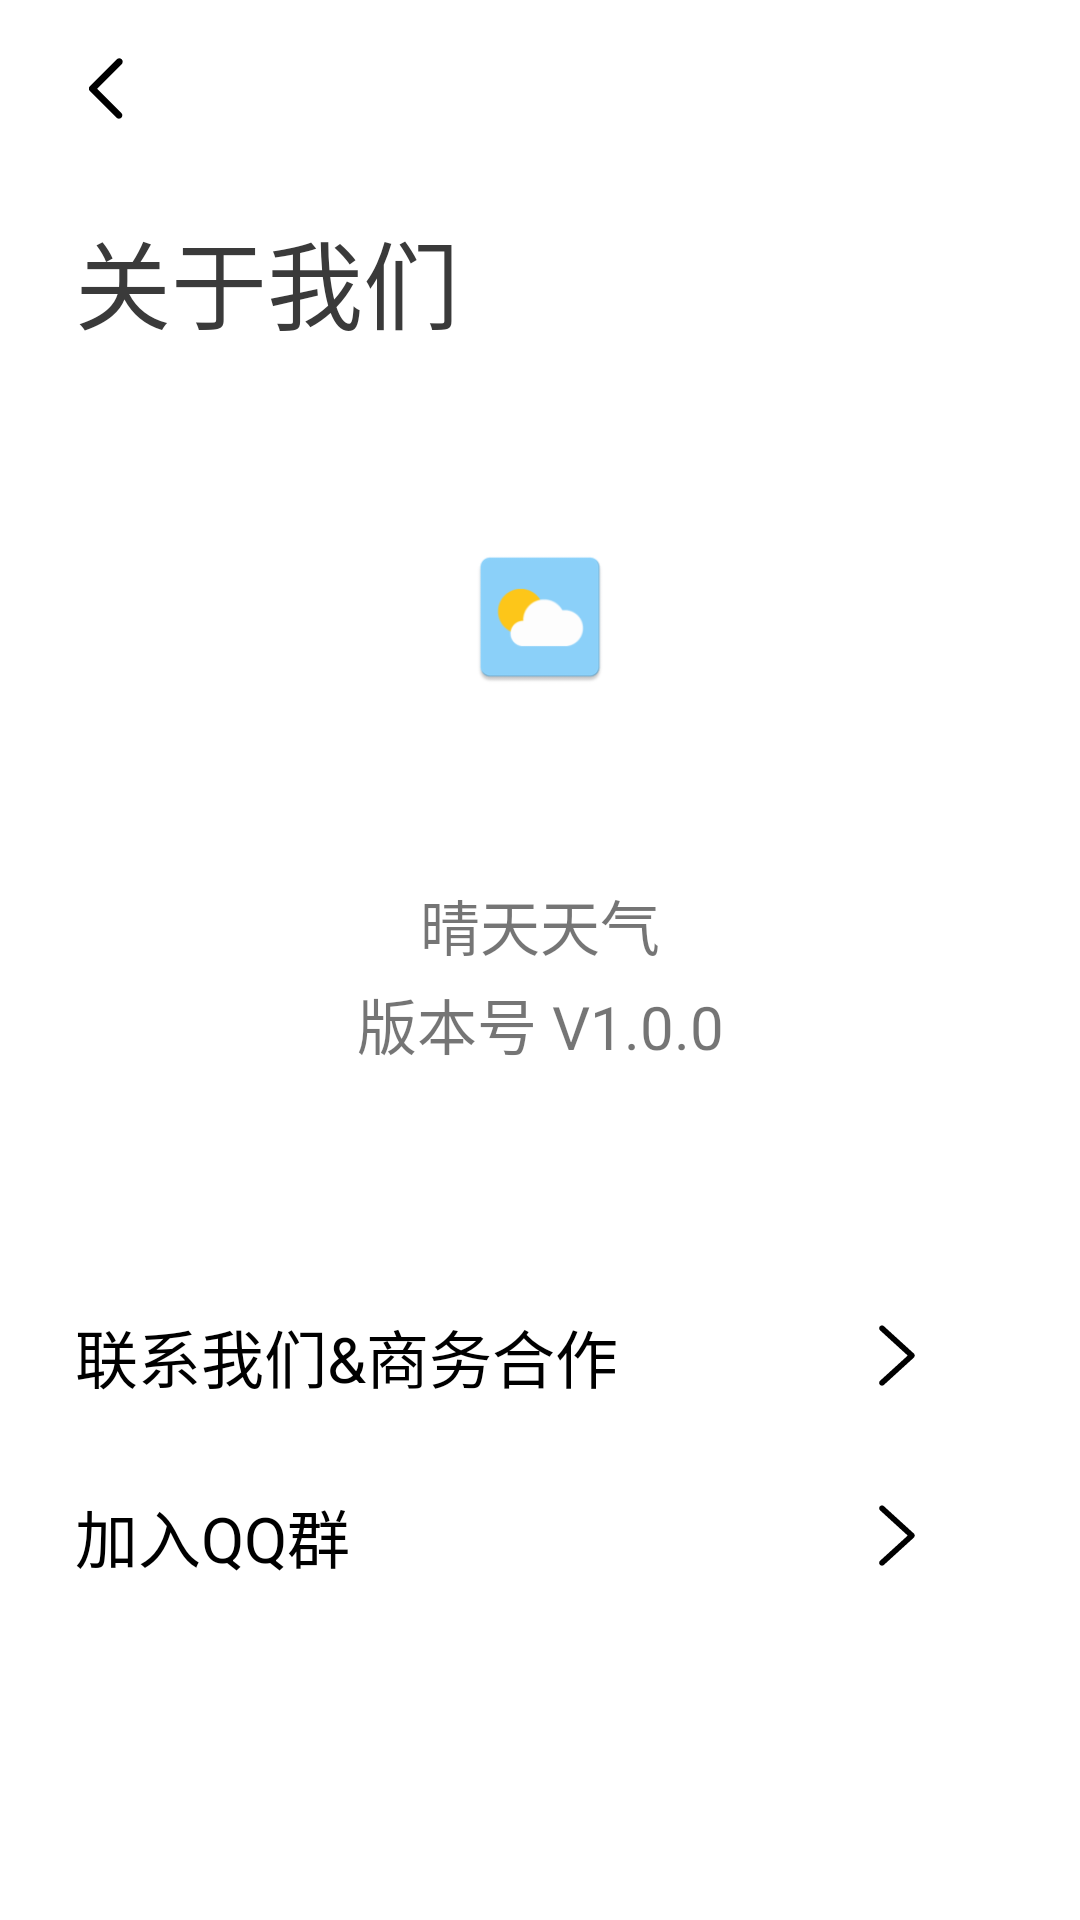

Icon bounding boxes for this 1080 × 1920 phone screenshot, format (left=x1, top=y1, right=x2, bottom=y2):
iconlocationback: (left=89, top=58, right=123, bottom=119)
setting forward: (left=879, top=1325, right=915, bottom=1386), (left=879, top=1505, right=915, bottom=1566)
